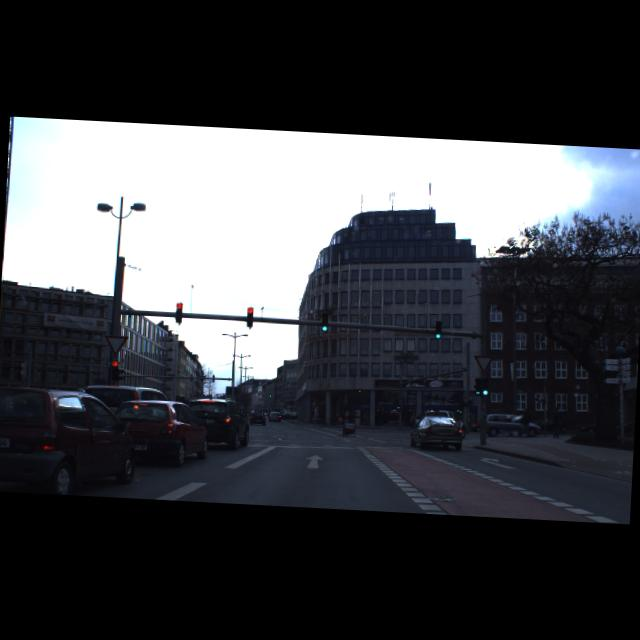other: (102, 334, 128, 357), (472, 354, 494, 374)
